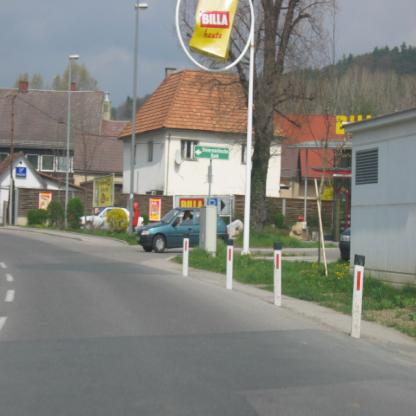car: (137, 211, 234, 255), (341, 226, 352, 263)
